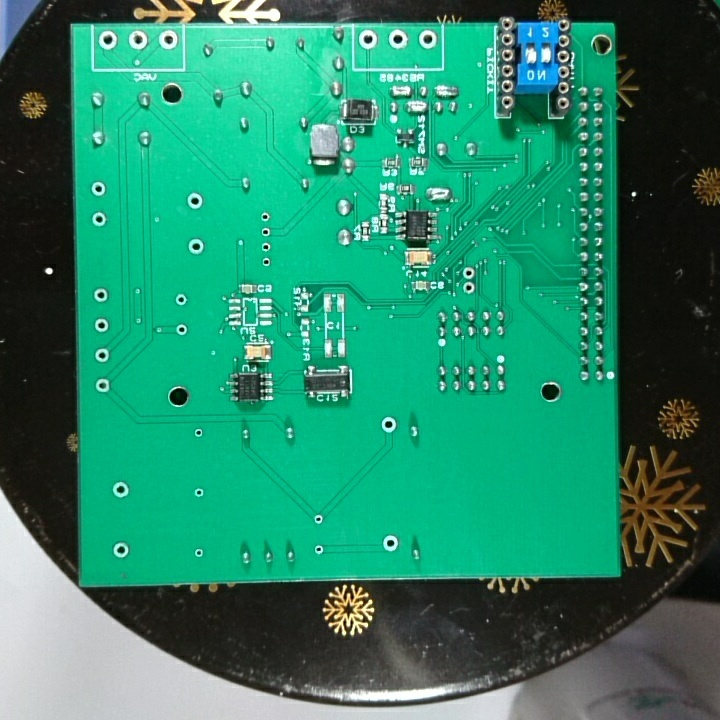F: (127, 27, 150, 53), (95, 28, 119, 52), (416, 27, 439, 52), (386, 27, 411, 50), (110, 477, 133, 502), (156, 28, 179, 52), (357, 28, 379, 52), (185, 235, 207, 258), (184, 189, 206, 212), (110, 538, 131, 560), (381, 532, 401, 555), (88, 178, 108, 200), (379, 413, 399, 435), (89, 209, 109, 230), (91, 285, 111, 306), (91, 314, 111, 335), (92, 345, 111, 366), (93, 375, 111, 395), (171, 291, 190, 309), (173, 320, 190, 340), (460, 263, 478, 281), (460, 279, 477, 298), (258, 255, 275, 272), (191, 545, 207, 562), (311, 541, 327, 558), (191, 483, 206, 501), (191, 423, 205, 442), (258, 209, 274, 225), (310, 511, 326, 527), (258, 224, 273, 240), (259, 239, 274, 255)
P: (424, 184, 454, 204), (431, 81, 462, 100), (402, 98, 429, 115), (388, 83, 414, 99)
